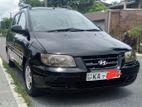car: (4, 4, 140, 100)
